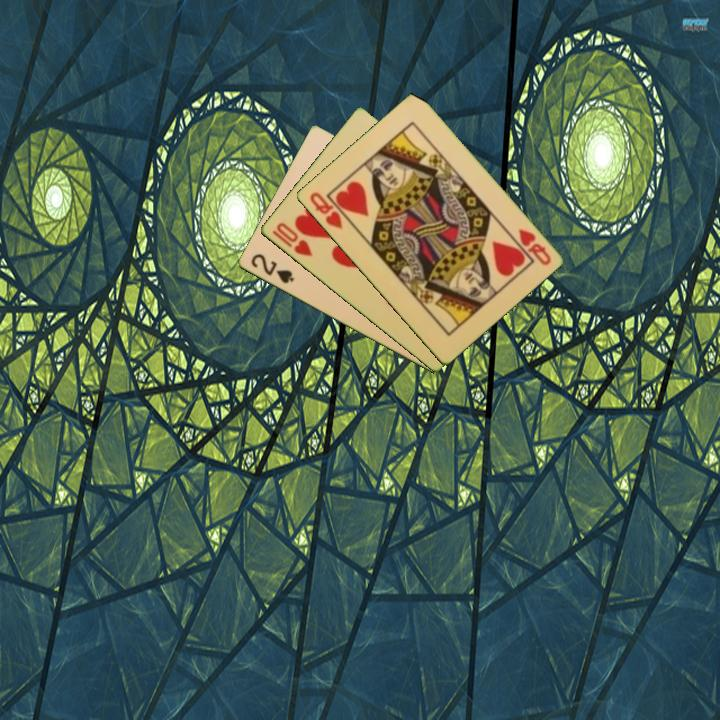10h: (268, 219, 315, 259)
2s: (247, 250, 296, 287)
Qh: (306, 188, 345, 232), (514, 225, 553, 268)
